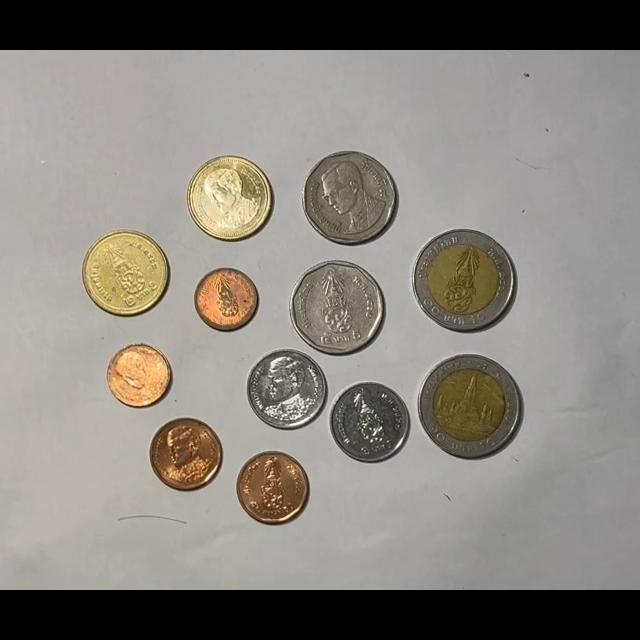1-baht: (246, 348, 327, 430), (330, 382, 411, 462)
10-baht: (418, 354, 523, 459), (412, 229, 516, 332)
2-baht: (186, 155, 274, 241), (82, 230, 168, 316)
25-satang: (106, 343, 173, 409), (194, 267, 260, 331)
5-baht: (289, 260, 385, 355), (301, 151, 397, 245)
50-satang: (150, 417, 223, 490), (236, 451, 308, 524)
